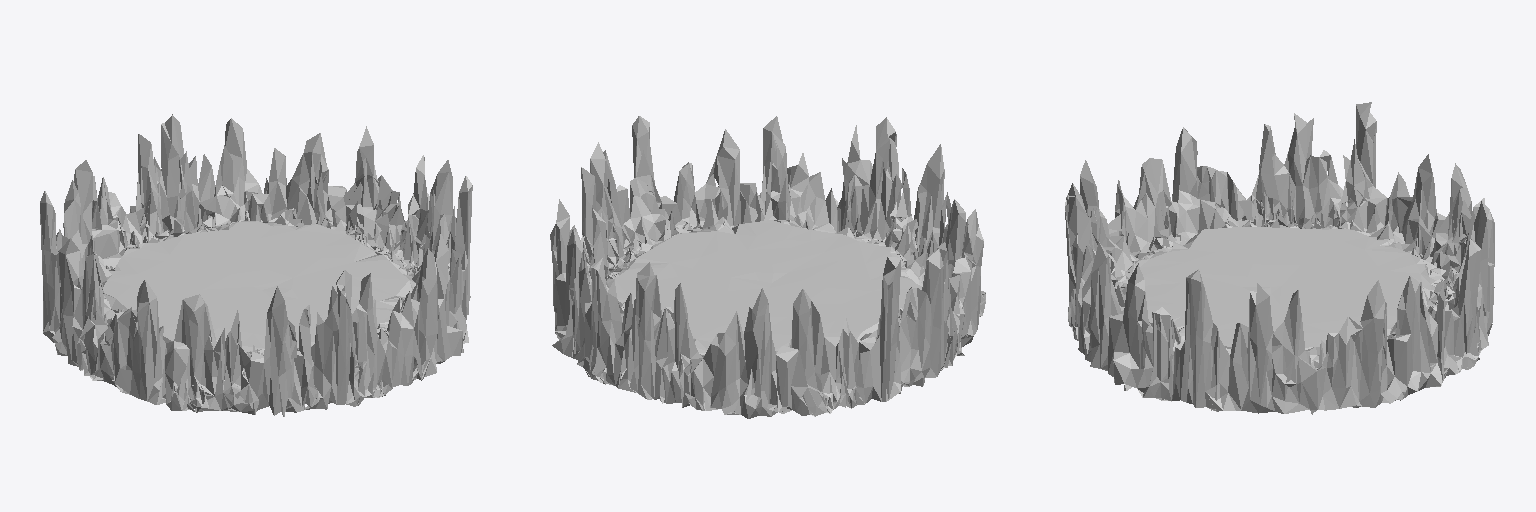
Rendered from Frostbound_Citadel_0611094857_texture.obj.
3 views of the same model, side by side, from view 1: azimuth 30°, elevation 25°; view 2: azimuth 150°, elevation 25°; view 3: azimuth 270°, elevation 25° (orthographic).
Parts seen in each view (by area): view 1: Frostbound_Citadel_[number redacted]_texture; view 2: Frostbound_Citadel_[number redacted]_texture; view 3: Frostbound_Citadel_[number redacted]_texture.
Part boxes in pixels (bbox=[...]): Frostbound_Citadel_[number redacted]_texture: bbox=[40, 114, 472, 416]; Frostbound_Citadel_[number redacted]_texture: bbox=[550, 116, 985, 418]; Frostbound_Citadel_[number redacted]_texture: bbox=[1065, 102, 1494, 414].
Size of the model in its own units: 1.99 by 0.7524 by 2.